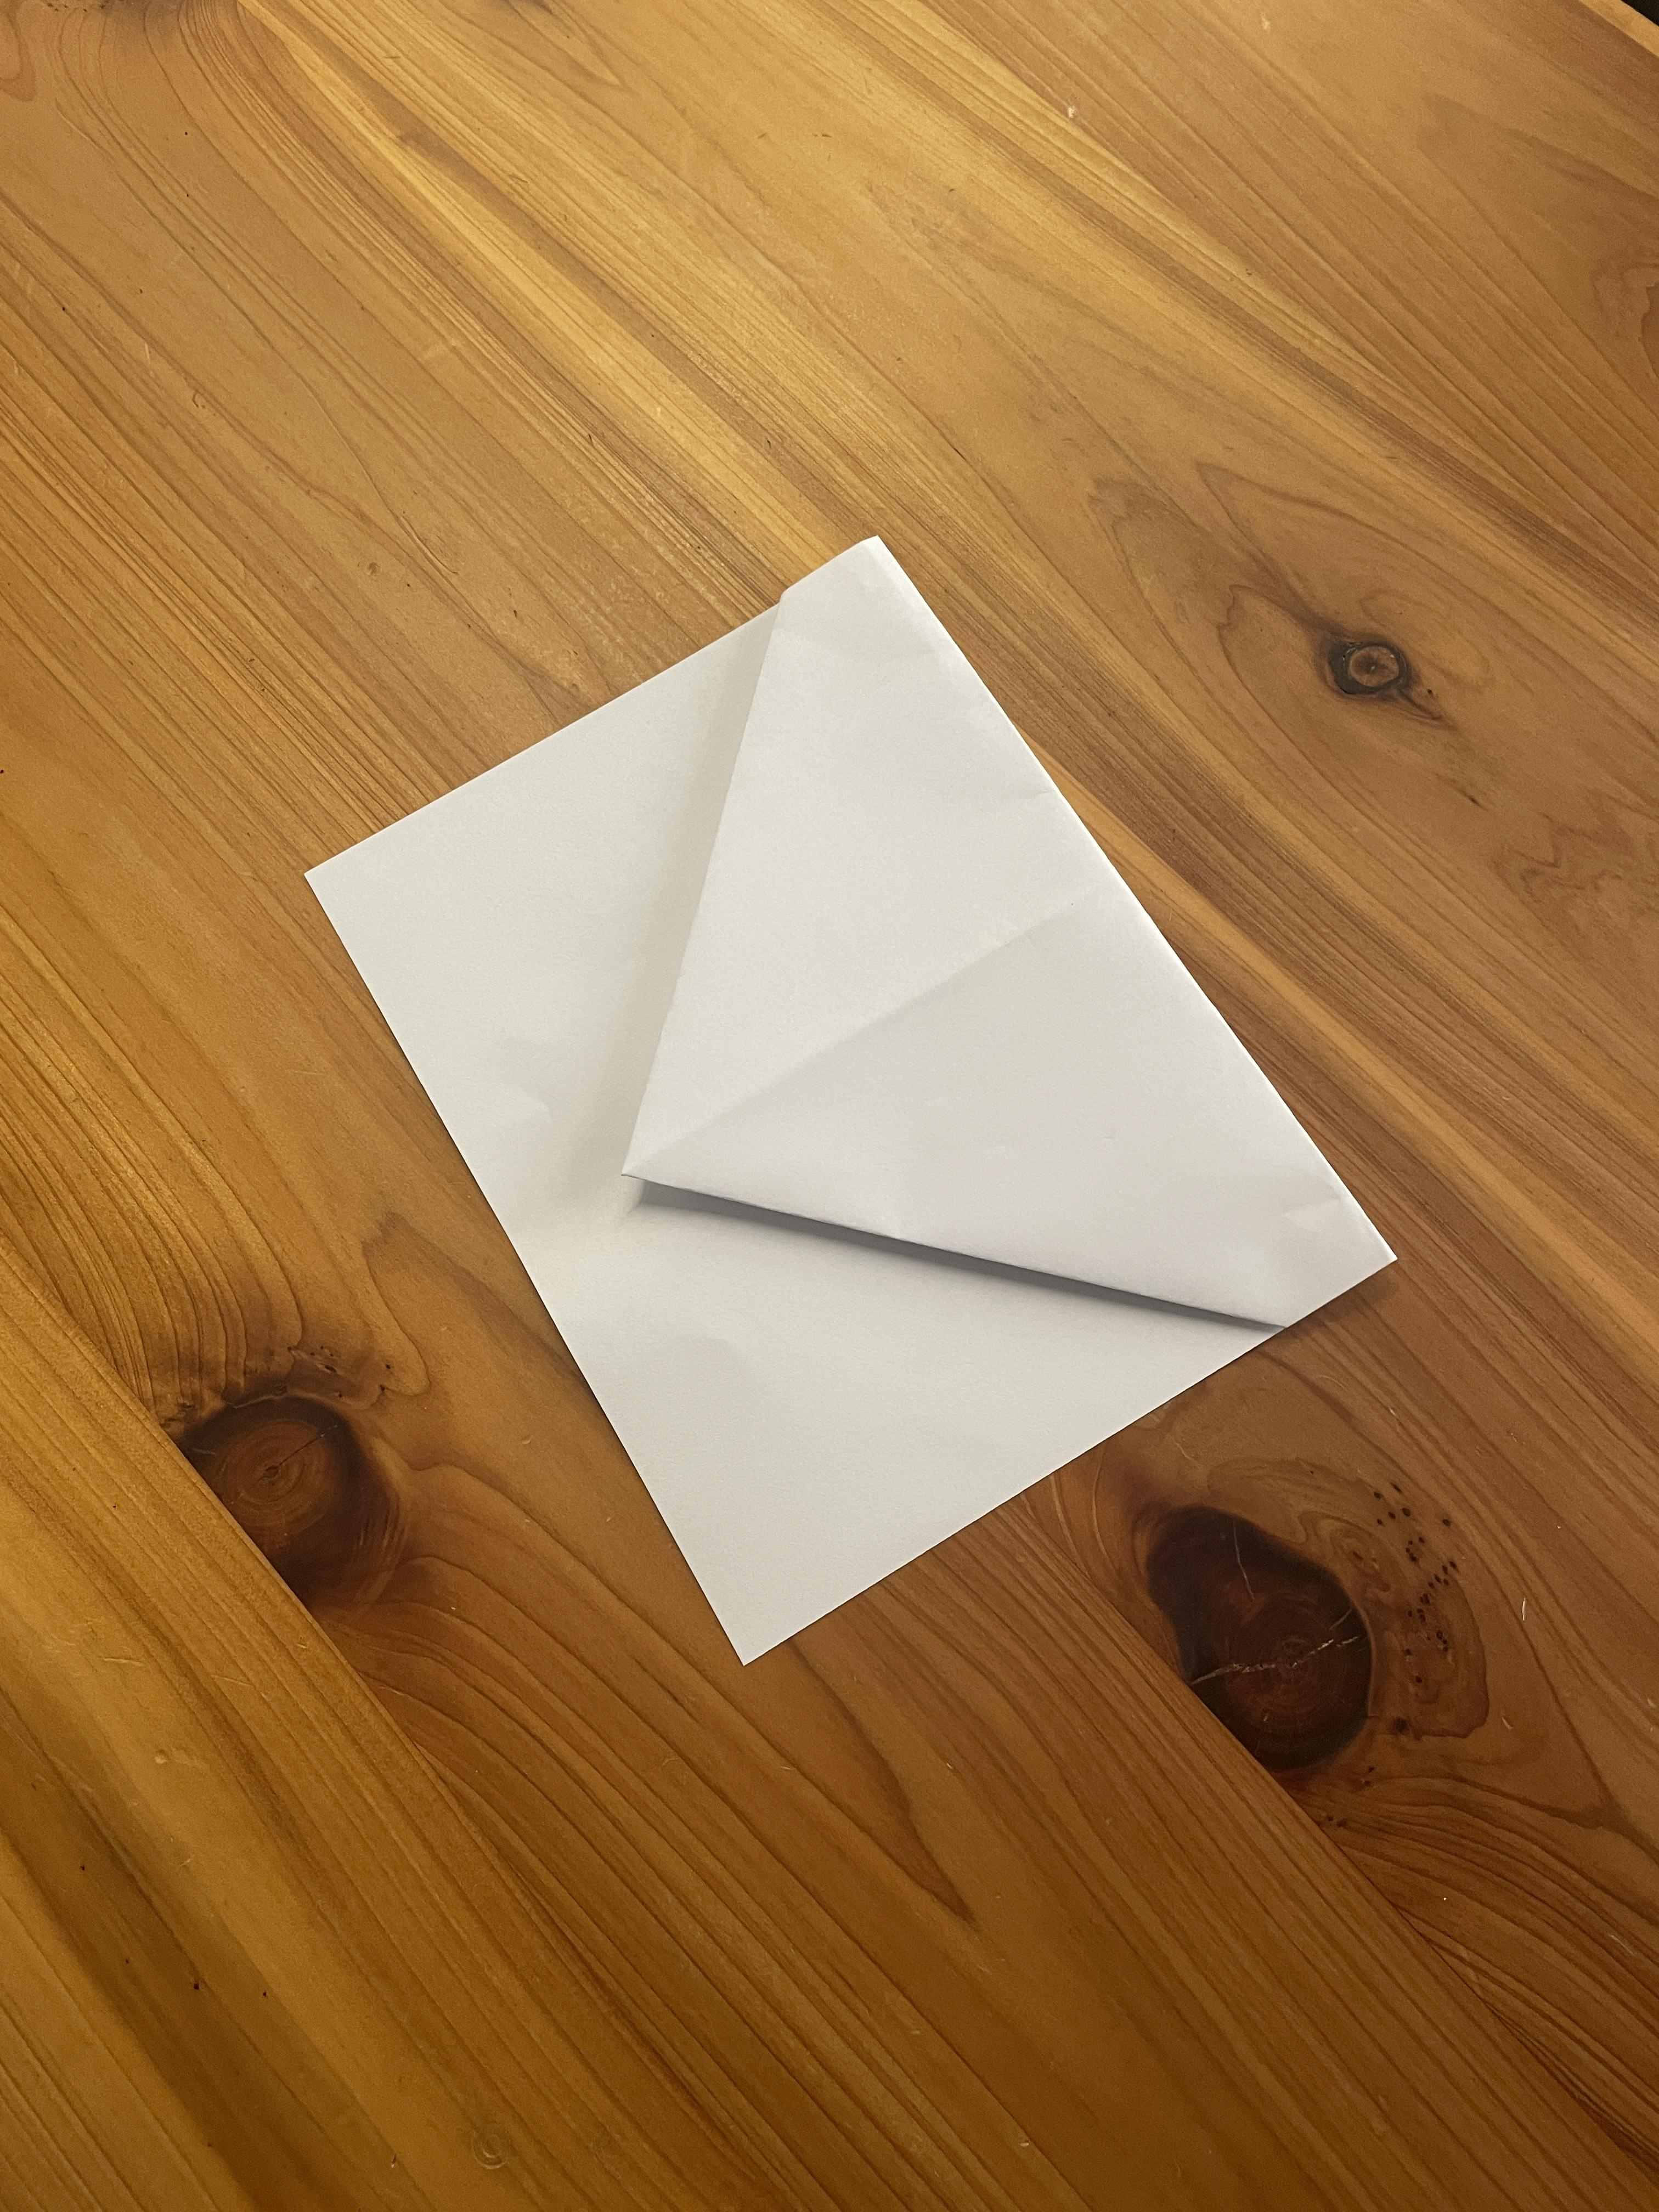shape_1: (214, 428, 1434, 1696)
